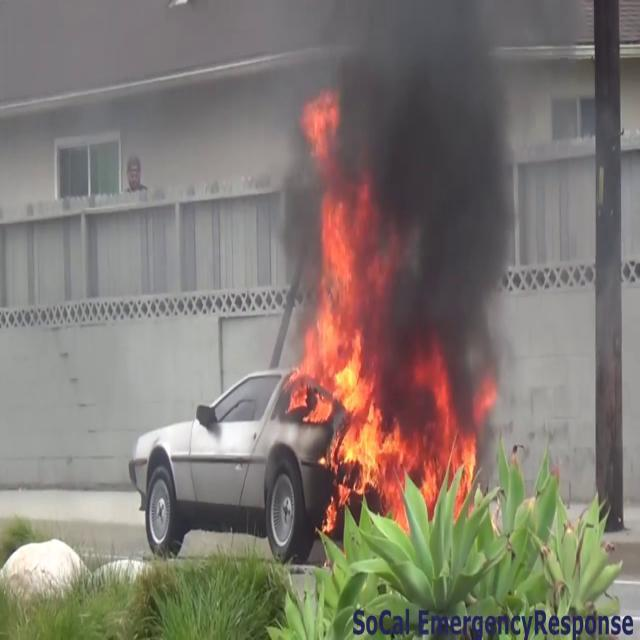Fire: (286, 139, 478, 518)
Smoke: (331, 1, 534, 403)
